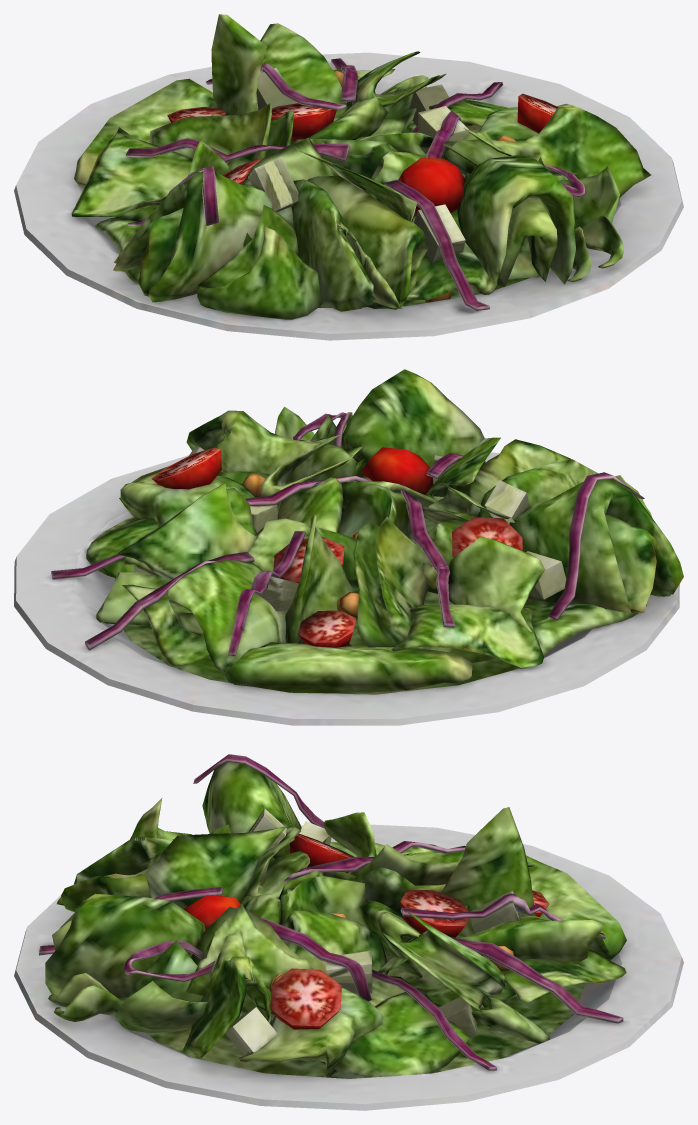
Rendered from salad.glb.
3 renders of one model, top to bottom at view 1: azimuth 30°, elevation 25°; view 2: azimuth 150°, elevation 25°; view 3: azimuth 270°, elevation 25°, orthographic.
Parts seen in each view (by area): view 1: Salad_0; view 2: Salad_0; view 3: Salad_0.
Part boxes in pixels (left/top/right/bottom): Salad_0: left=14, top=14, right=683, bottom=340; Salad_0: left=14, top=369, right=683, bottom=725; Salad_0: left=14, top=754, right=683, bottom=1110.
Size of the model in its own units: 0.1631 by 0.0426 by 0.1631.
Materials: 6 (6 with a texture image).
